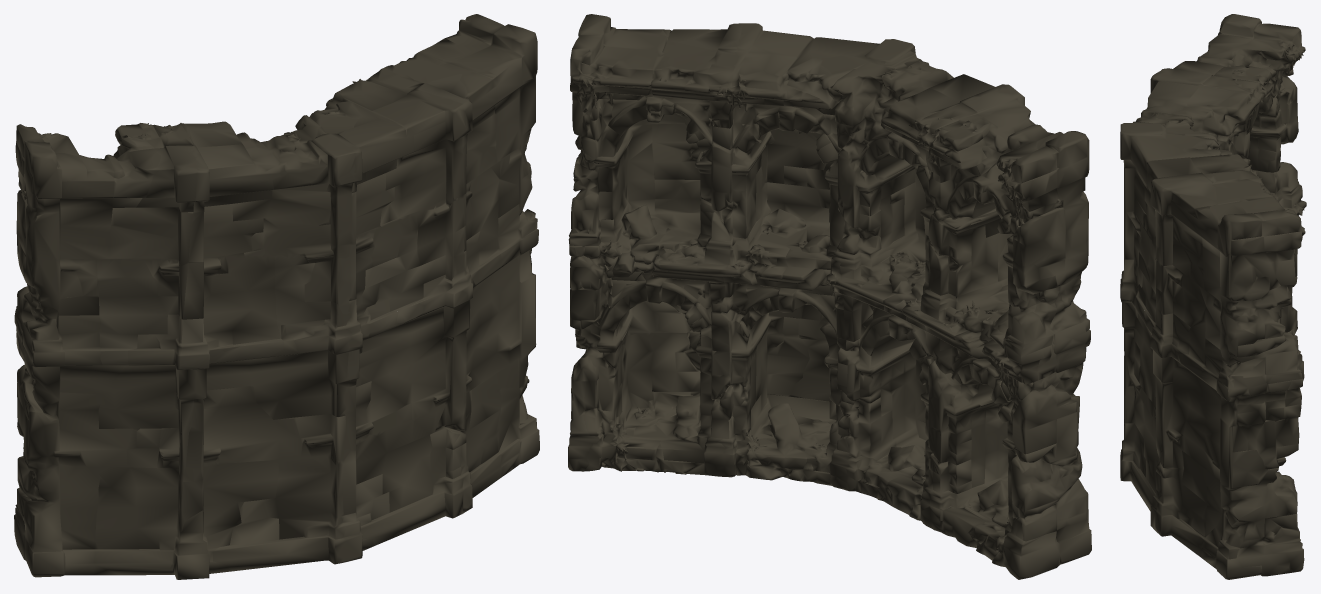
The model's file is Dungeon_wall_shadow.glb.
3 renders of one model, left to right at view 1: azimuth 30°, elevation 25°; view 2: azimuth 150°, elevation 25°; view 3: azimuth 270°, elevation 25°, orthographic. The views are drawn at different scales.
Visible parts, largest first — view 1: YVO3D.obj; view 2: YVO3D.obj; view 3: YVO3D.obj.
Boxes of the visible parts, x1=… form: YVO3D.obj: x1=14, y1=14, x2=539, y2=579; YVO3D.obj: x1=568, y1=14, x2=1091, y2=579; YVO3D.obj: x1=1120, y1=14, x2=1306, y2=579.
Bounding box in the file's own units: 0.9796 × 0.7792 × 0.3663.
1 material, 1 textured.
